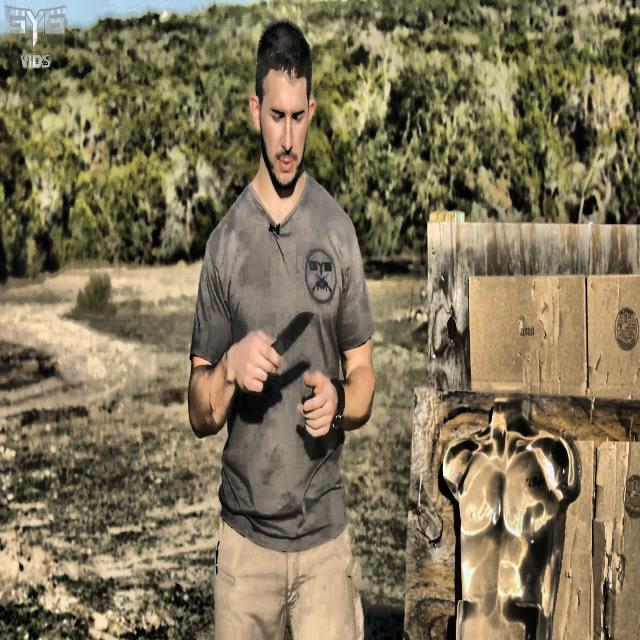knife: (271, 310, 312, 354)
